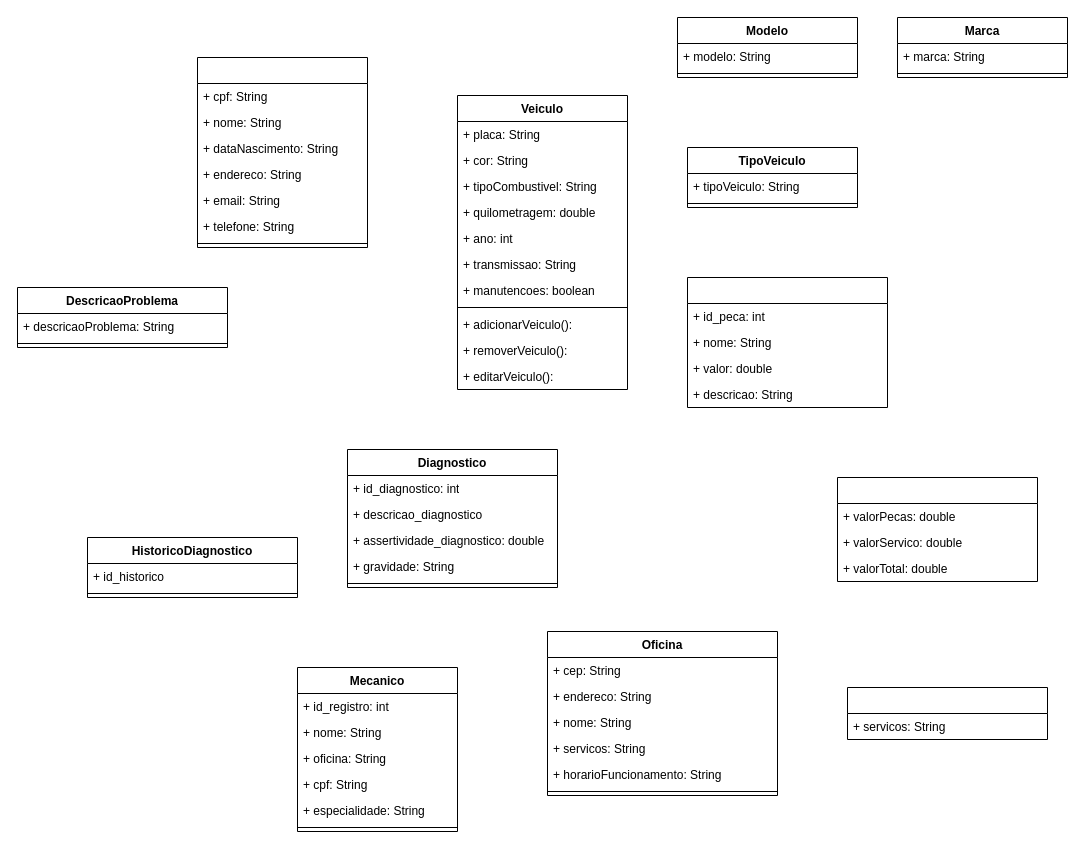
Image size: 1085x849. Some labels were removed from this diagram. Each missing label, with the box of its shape:
Cliente: (196, 56, 368, 248)
Orçamento: (836, 476, 1038, 582)
PecasNecessarias: (686, 276, 888, 408)
Serviços: (846, 686, 1048, 740)
